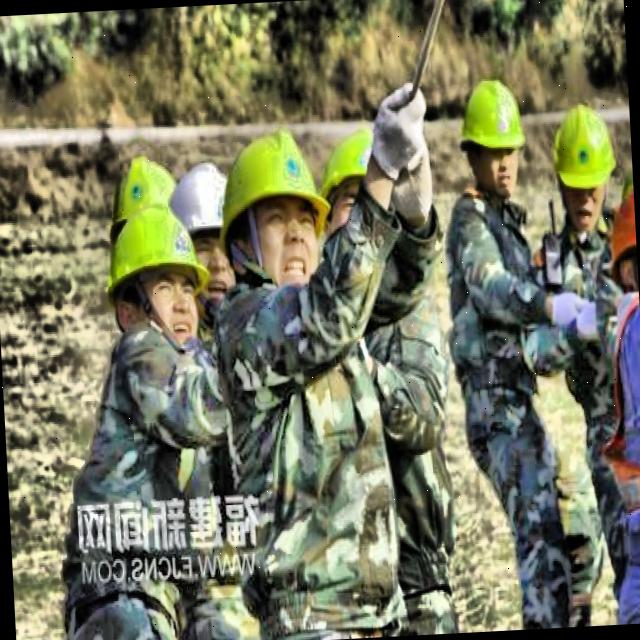helmet: (94, 176, 216, 368), (222, 122, 336, 300), (450, 68, 533, 210), (548, 98, 624, 236), (166, 158, 240, 282), (326, 127, 382, 229)
